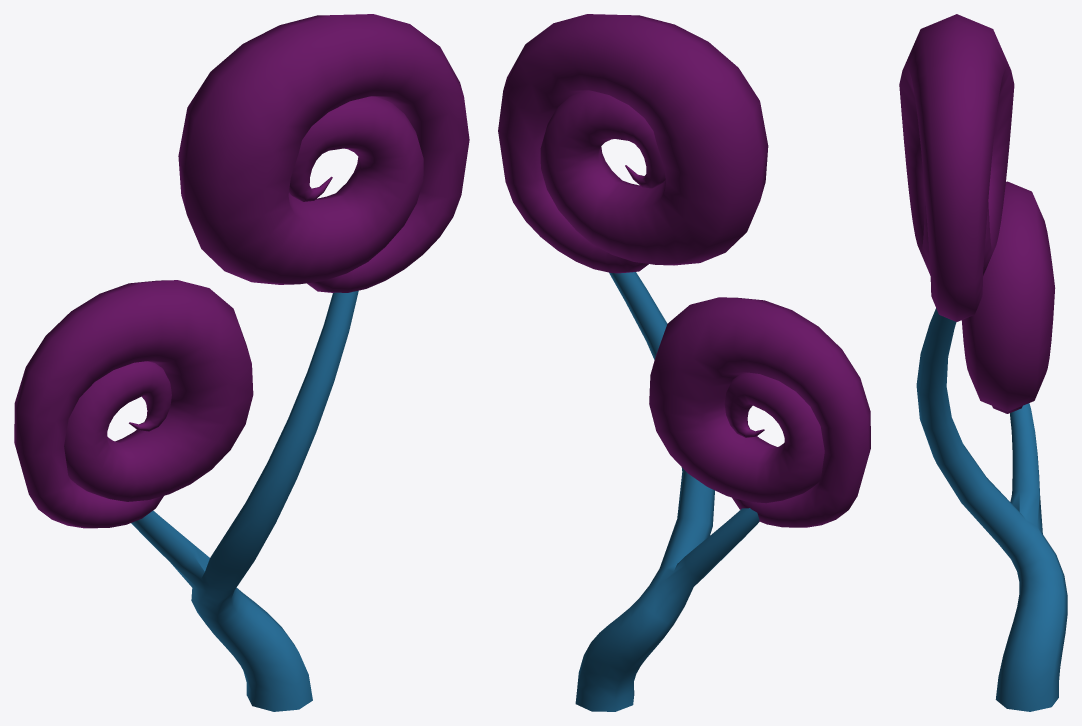
Rendered from Tree Swirl-iLxXSXIx2t.glb.
The picture shows the model from 3 angles, left to right: view 1: azimuth 30°, elevation 25°; view 2: azimuth 150°, elevation 25°; view 3: azimuth 270°, elevation 25°; orthographic projection. The views are drawn at different scales.
Parts seen in each view (by area): view 1: Tree_Swirl_1; view 2: Tree_Swirl_1; view 3: Tree_Swirl_1.
Part boxes in pixels (x1,y1,x2,y2): Tree_Swirl_1: [14, 14, 469, 711]; Tree_Swirl_1: [498, 14, 870, 711]; Tree_Swirl_1: [899, 14, 1067, 711].
Size of the model in its own units: 4.61 by 7.35 by 1.68.
Materials: 1 (1 with a texture image).
